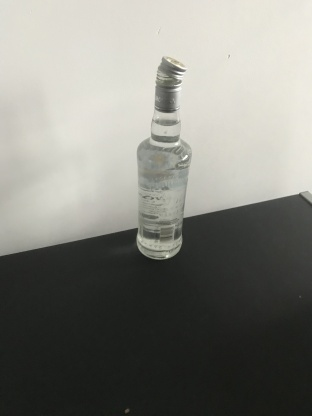nakretka: (153, 52, 188, 113)
